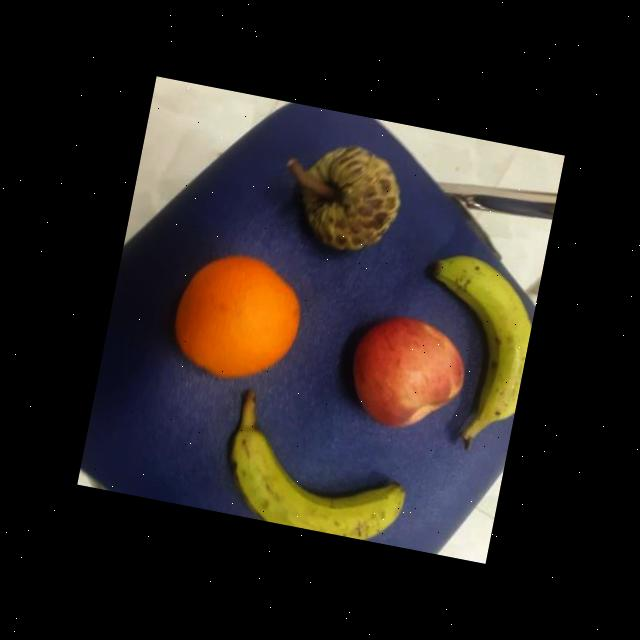Sakya fruit: (271, 133, 408, 262)
apple: (329, 304, 475, 440)
banana: (402, 238, 543, 454), (208, 408, 422, 548)
orange: (162, 245, 312, 393)
